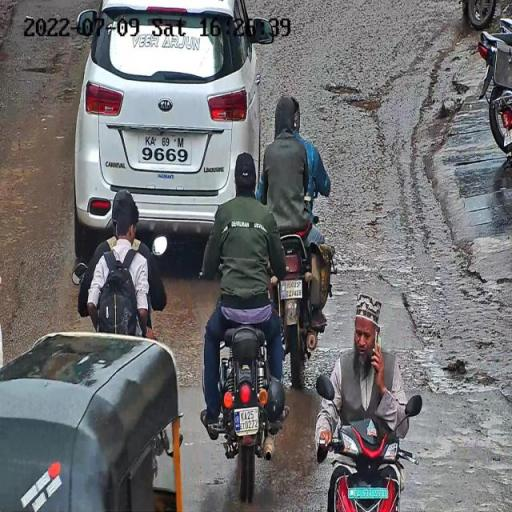using mobile: (370, 324, 386, 379)
